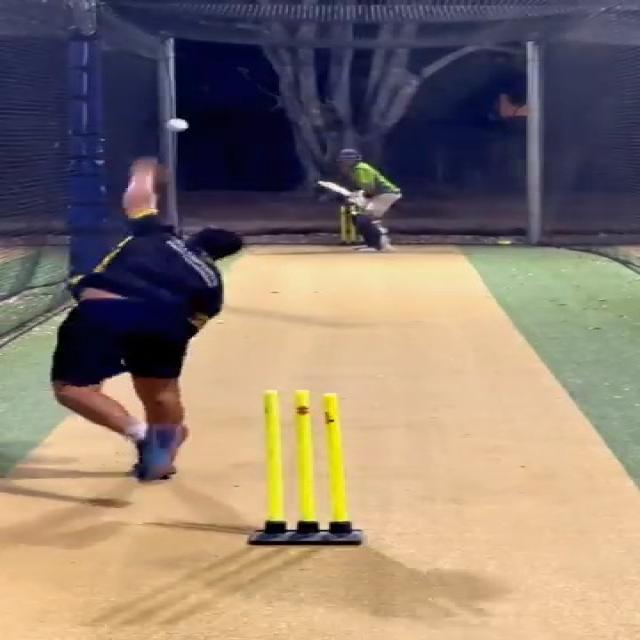ball: (165, 117, 190, 134)
stump: (246, 388, 366, 548)
